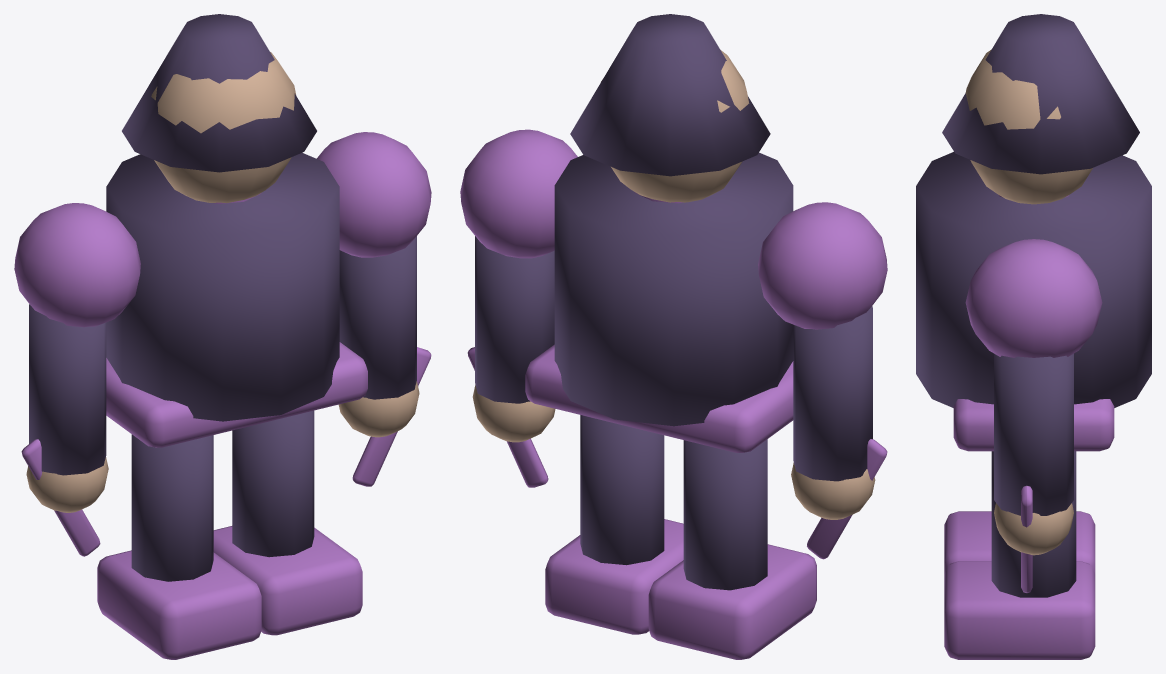
The model's file is Character_3_Placeholder.glb.
3 renders of one model, left to right at view 1: azimuth 30°, elevation 25°; view 2: azimuth 150°, elevation 25°; view 3: azimuth 270°, elevation 25°, orthographic. The views are drawn at different scales.
Parts seen in each view (by area): view 1: Character_3_Placeholder_Export; view 2: Character_3_Placeholder_Export; view 3: Character_3_Placeholder_Export.
Part boxes in pixels (box(x1,y1,x2,y2)): Character_3_Placeholder_Export: box(14, 14, 431, 659); Character_3_Placeholder_Export: box(460, 14, 887, 659); Character_3_Placeholder_Export: box(916, 14, 1151, 659).
Bounding box in the file's own units: 121 × 164 × 60.
